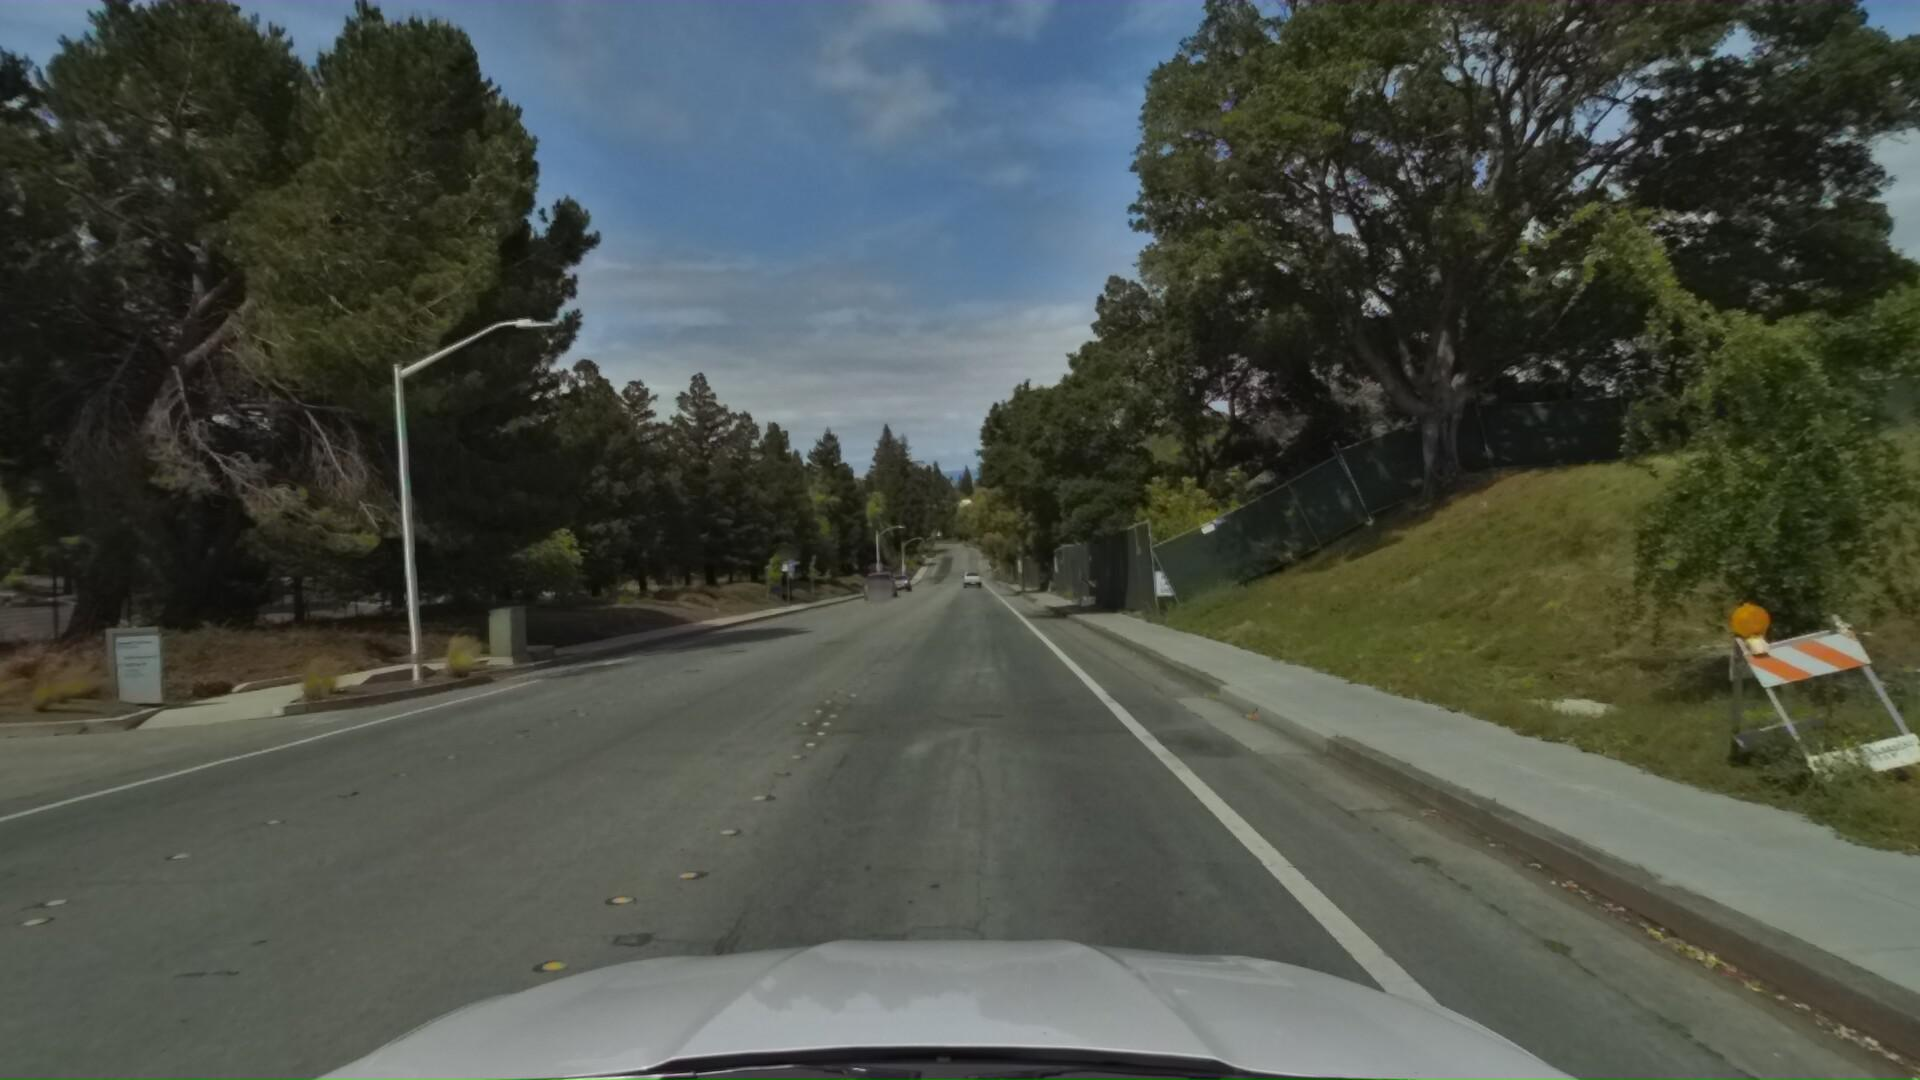car: (855, 567, 895, 605)
